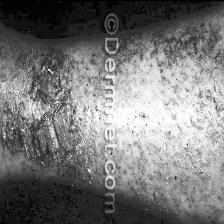Non-Cancerous Skin Condition: (124, 7, 224, 224), (0, 30, 103, 194)
